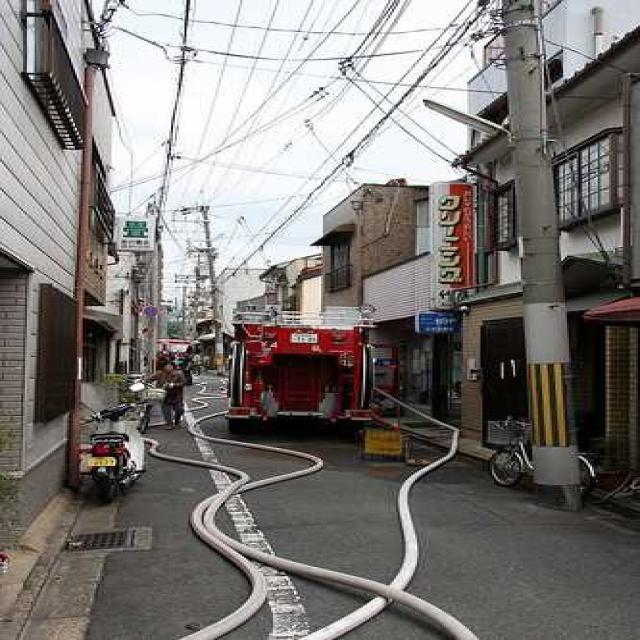ambulance: (224, 309, 373, 432)
